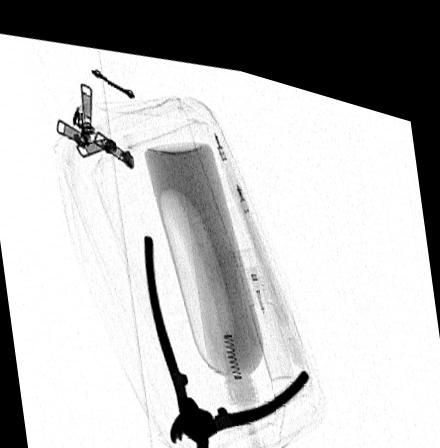Pliers: (145, 224, 309, 448)
